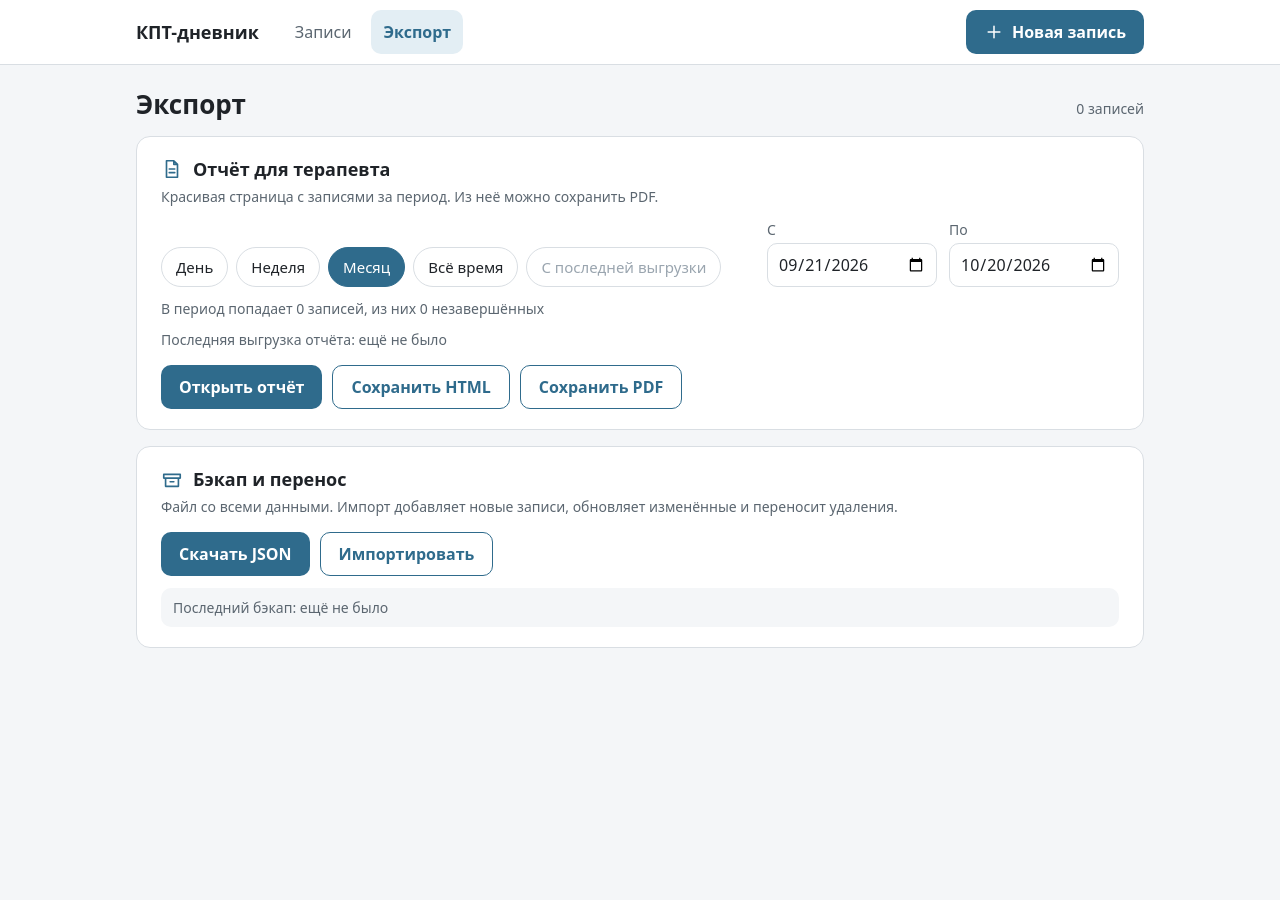
open report opens the report in a new tab
The width and height of the screenshot is (1280, 900).
Click the button "Открыть отчёт". click: (242, 387)
box: [161,365,322,409]
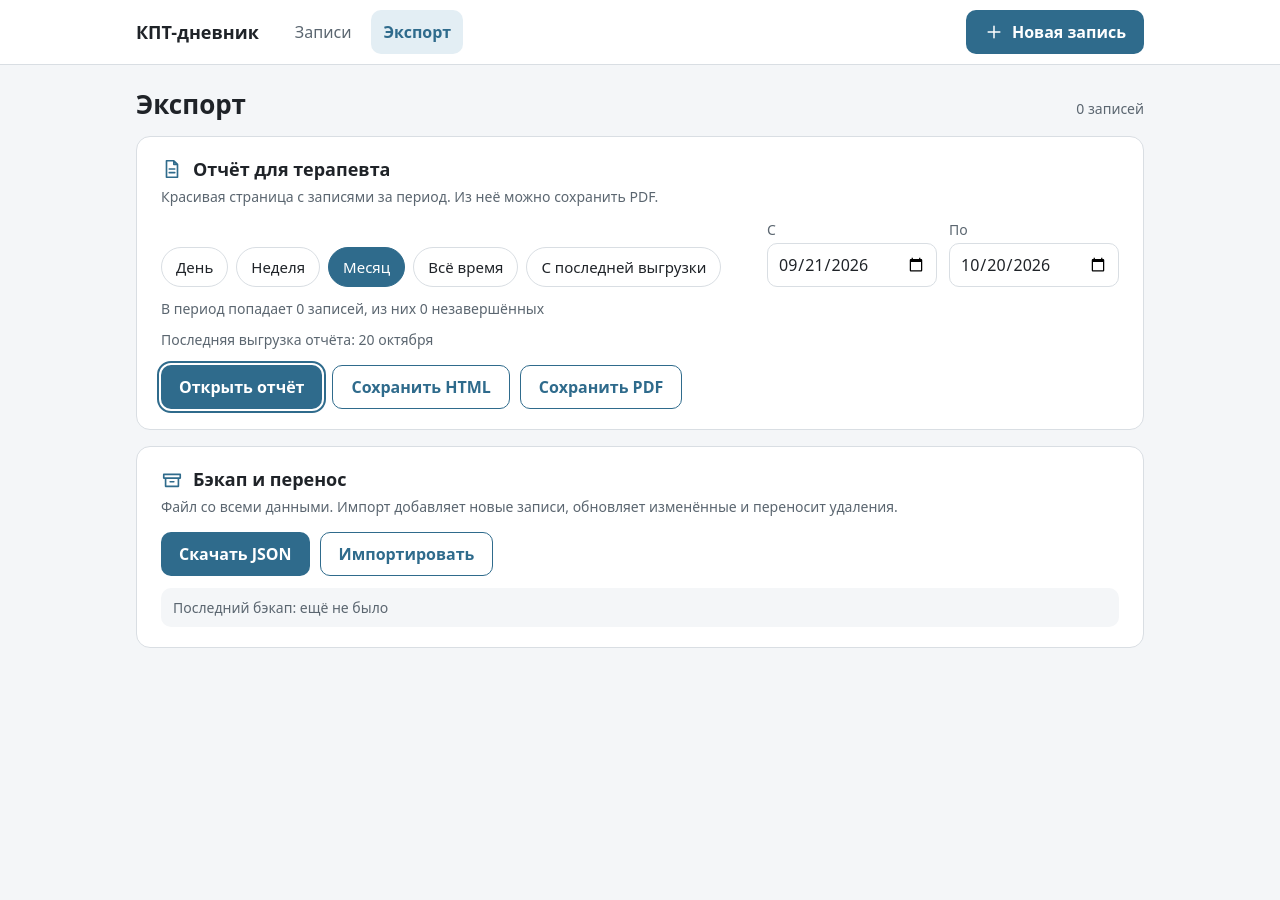
Check: the text "Последняя выгрузка отчёта: 20 октября" is shown, box [161,330,433,349]
